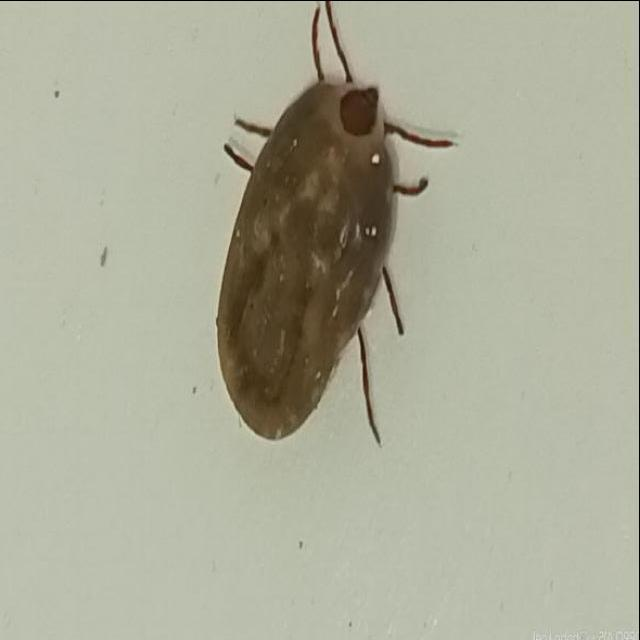Rhipicephalus Sanguineus-F-Fed: (216, 0, 461, 447)
